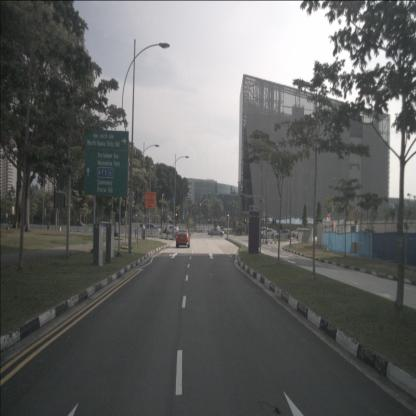vehicle-car: (176, 229, 190, 248), (64, 220, 84, 233), (99, 221, 116, 235), (130, 223, 147, 236), (145, 224, 160, 236), (260, 228, 275, 238), (208, 228, 224, 237), (291, 228, 305, 237), (276, 230, 290, 239), (166, 226, 179, 235)
vehicle-truck: (257, 227, 277, 239)
